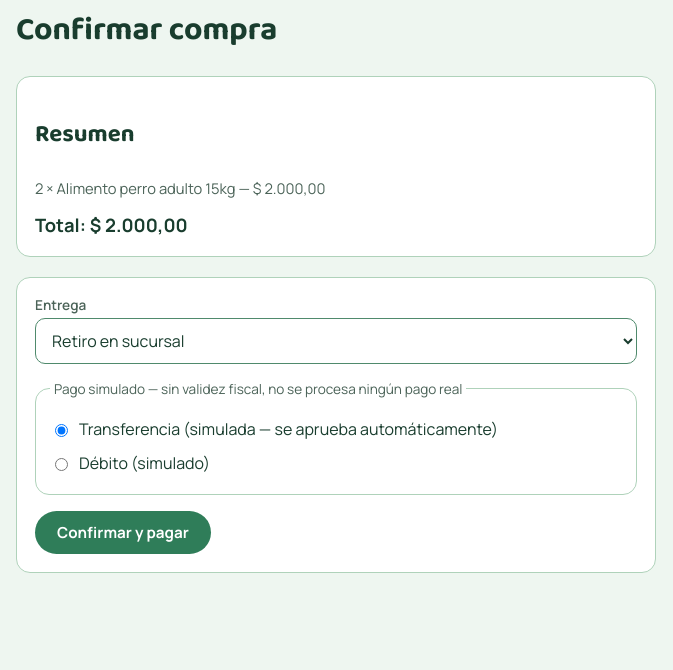
it: Checkout › con una dirección guardada, el campo de entrega se pre-llena (pero sigue editable)
The image size is (673, 670).
Expected: the text "Total: $ 2.000,00" is shown, [35,212,188,238]
Select "Envío a domicilio" in the dropdown labelled "Entrega" at [336, 341], box [35,318,637,364]
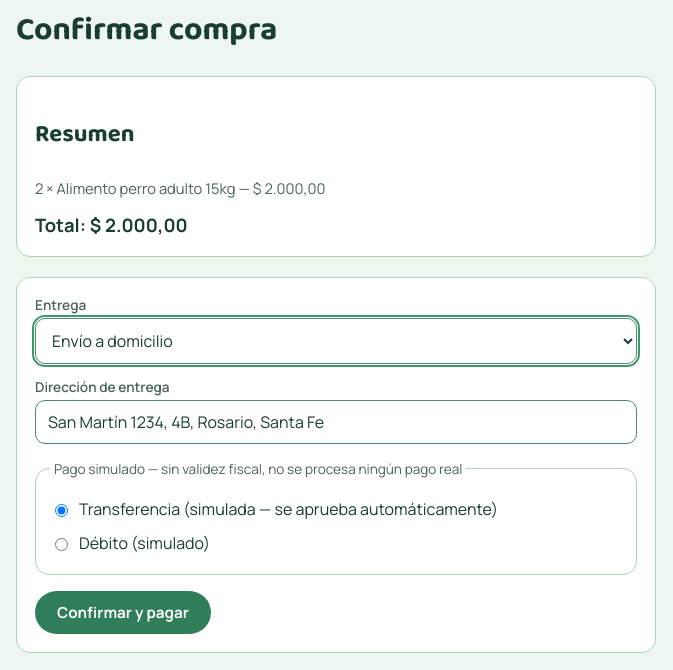
Result: the field labelled "Dirección de entrega" holds "San Martín 1234, 4B, Rosario, Santa Fe" at [35,400,637,444]
